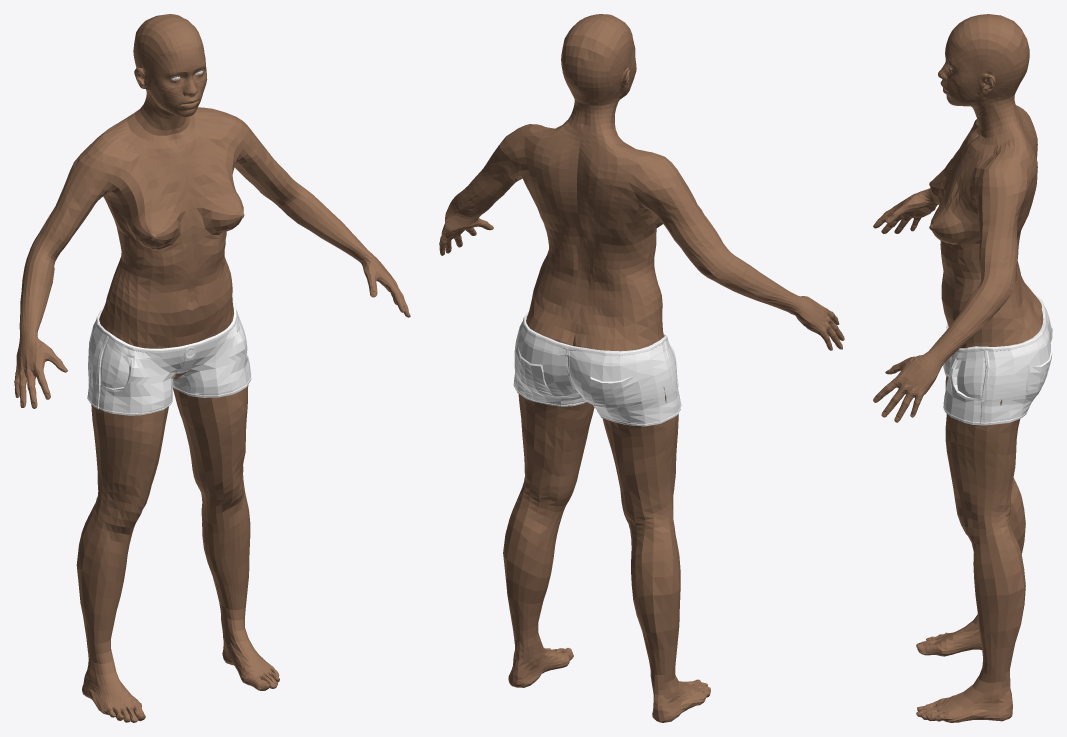
The model's file is modelf.obj.
3 views of the same model, side by side, from view 1: azimuth 30°, elevation 25°; view 2: azimuth 150°, elevation 25°; view 3: azimuth 270°, elevation 25° (orthographic). The views are drawn at different scales.
Parts seen in each view (by area): view 1: female_modelBody, female_model_short01; view 2: female_modelBody, female_model_short01; view 3: female_modelBody, female_model_short01.
Boxes of the visible parts, bbox=[...] form: female_modelBody: bbox=[14, 14, 410, 722]; female_model_short01: bbox=[87, 301, 251, 415]; female_modelBody: bbox=[439, 14, 844, 722]; female_model_short01: bbox=[513, 311, 681, 426]; female_modelBody: bbox=[873, 14, 1043, 722]; female_model_short01: bbox=[943, 294, 1052, 425].
Bounding box in the file's own units: 9.71 × 15.9 × 3.89.
